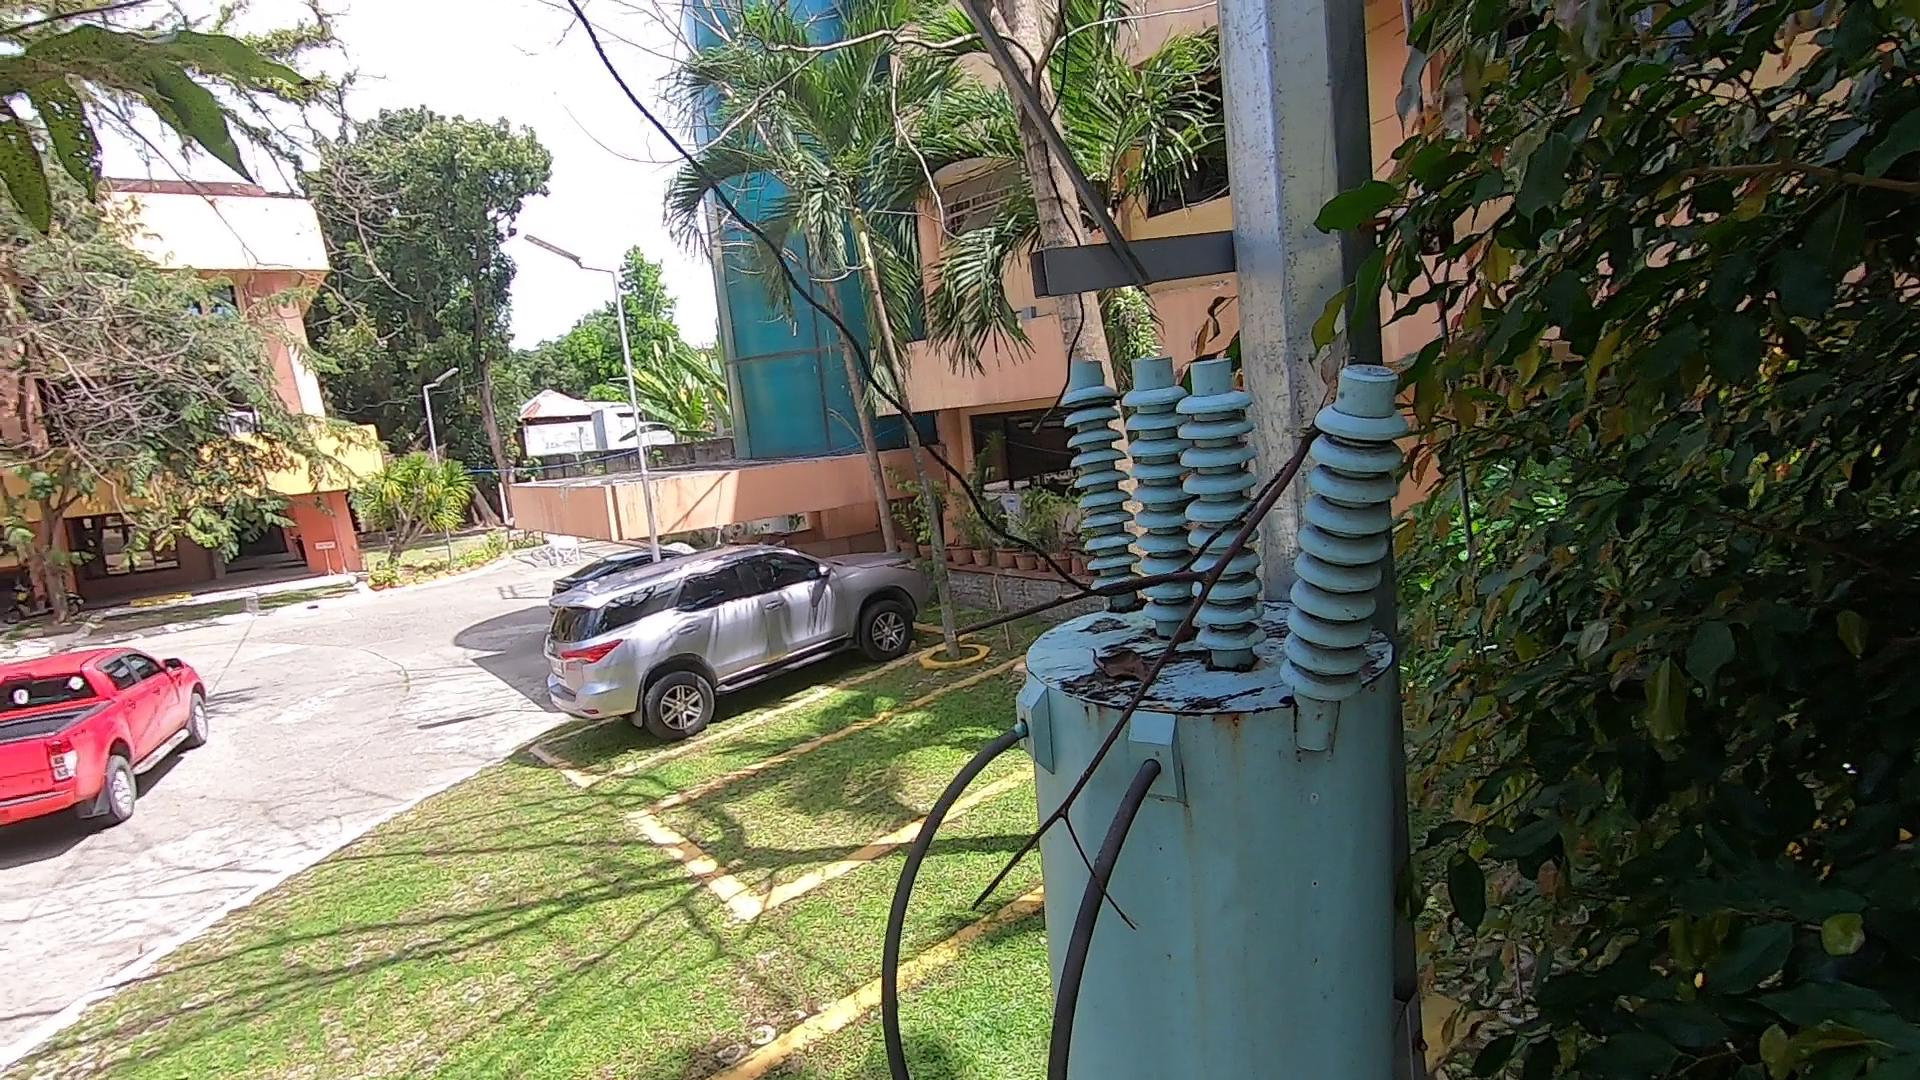leaf: (1088, 636, 1178, 700)
tree branch: (944, 421, 1371, 943)
